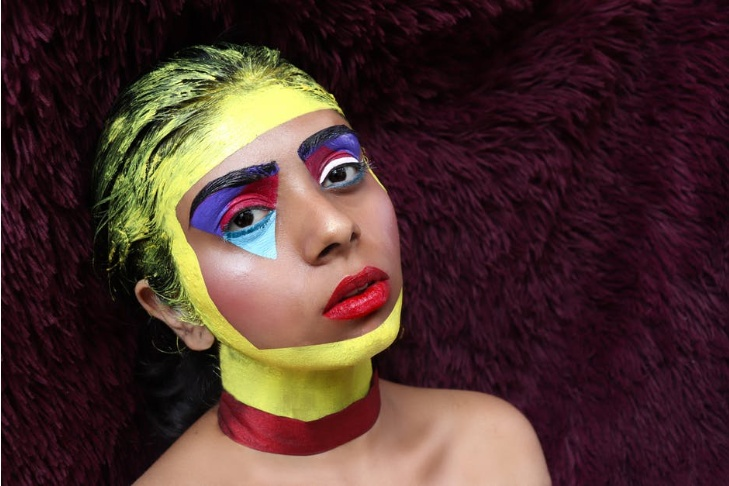face: (172, 103, 401, 365)
